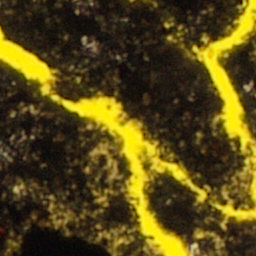cement_matrix: (0, 0, 255, 255), (222, 31, 255, 141), (195, 188, 207, 200)
cracks: (60, 96, 196, 255), (194, 0, 255, 221), (0, 28, 54, 96)
gravel_crushed_stones: (196, 189, 206, 199)
